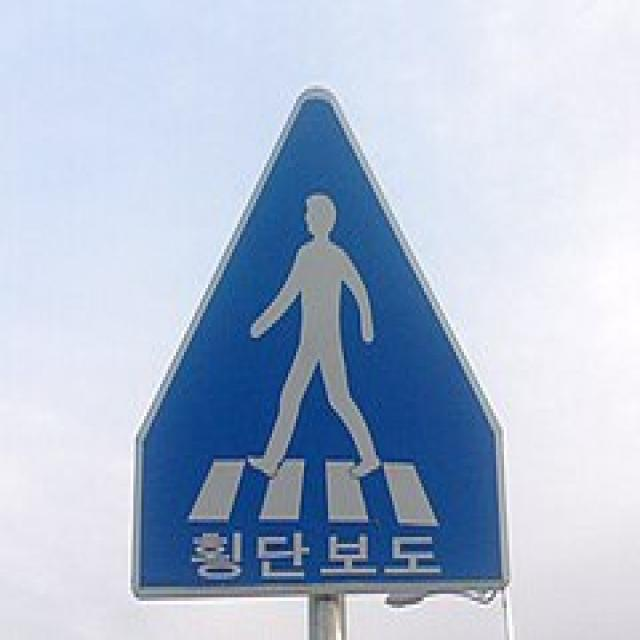Pedestrian crosswalk: (162, 185, 461, 528)
